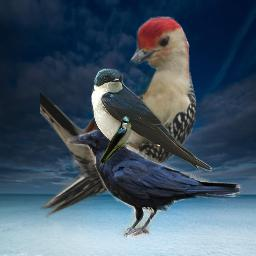Crow: (67, 129, 243, 240)
Swallow: (91, 68, 212, 172), (99, 116, 132, 166)
Woodpecker: (40, 16, 196, 222)
